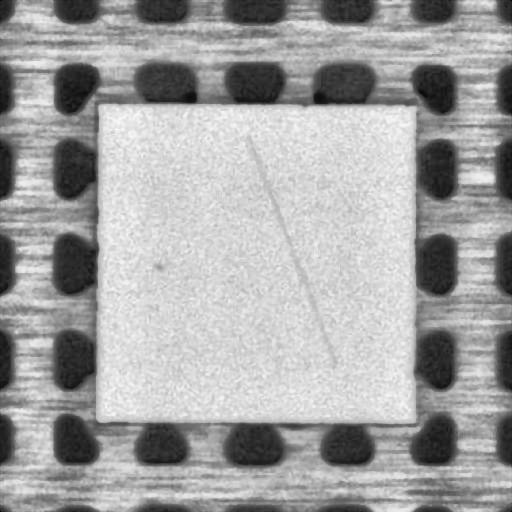DIE_CRACK: (248, 136, 334, 362)
